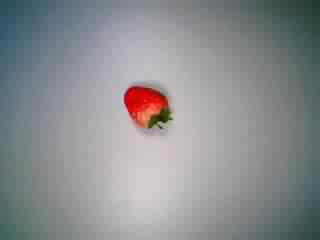strawberry: (115, 79, 181, 141)
